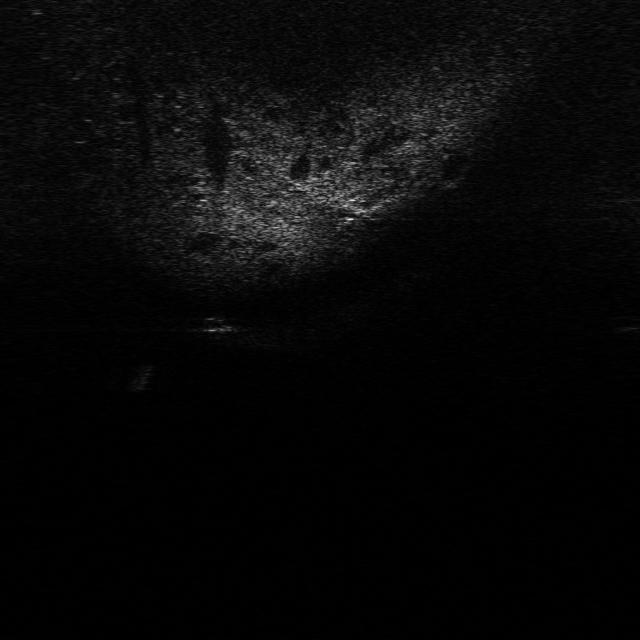cube: (196, 312, 237, 336)
cylinder: (124, 361, 156, 393)
